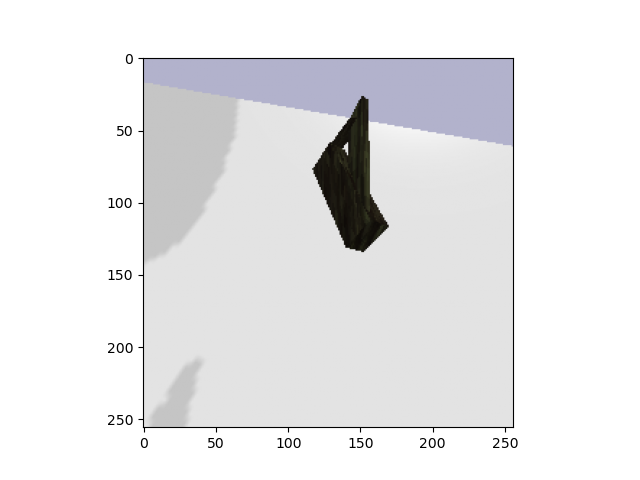v249b387_109: (296, 89, 404, 257)
